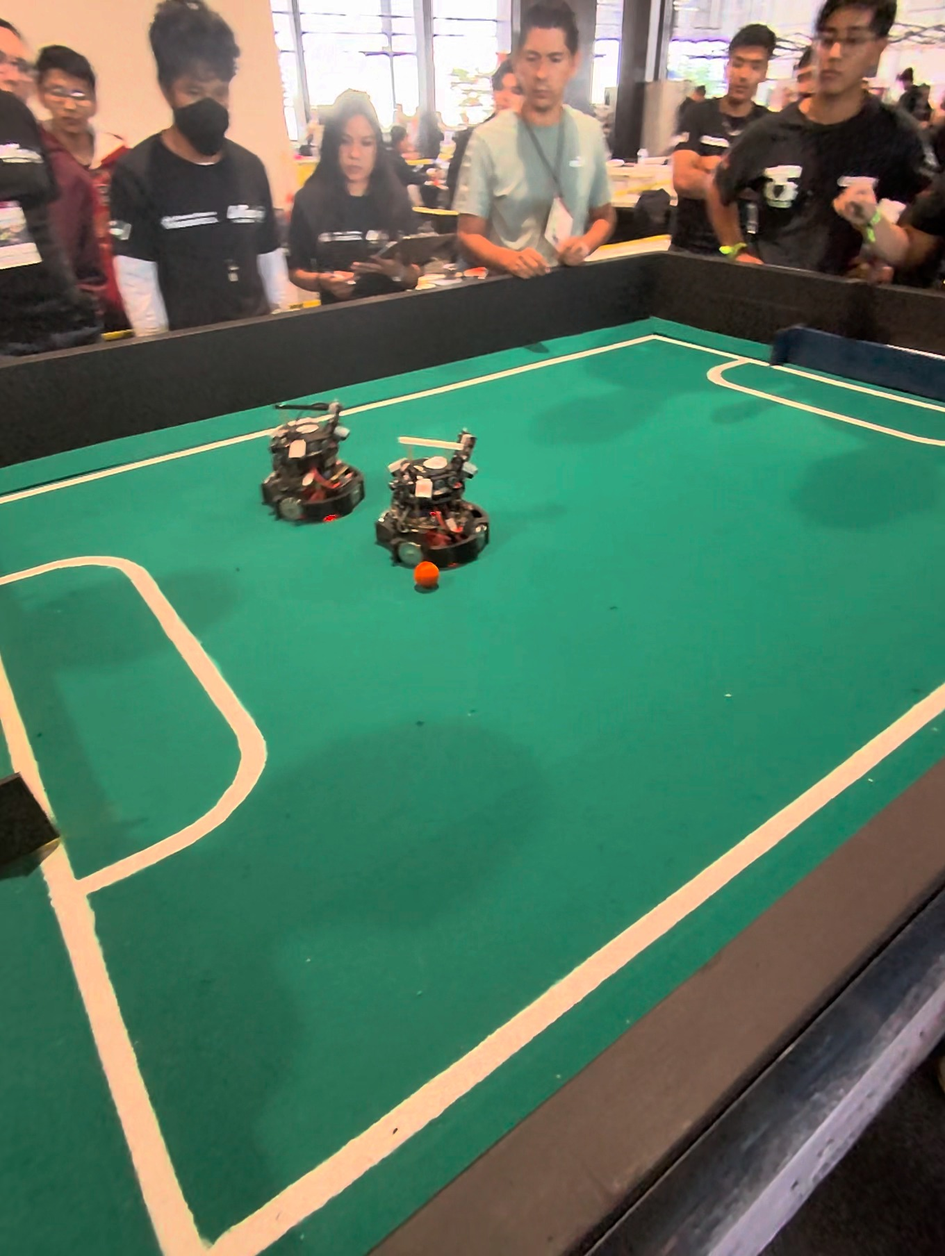Robot: (372, 422, 492, 573), (259, 391, 365, 527)
pelota: (412, 561, 443, 591)
